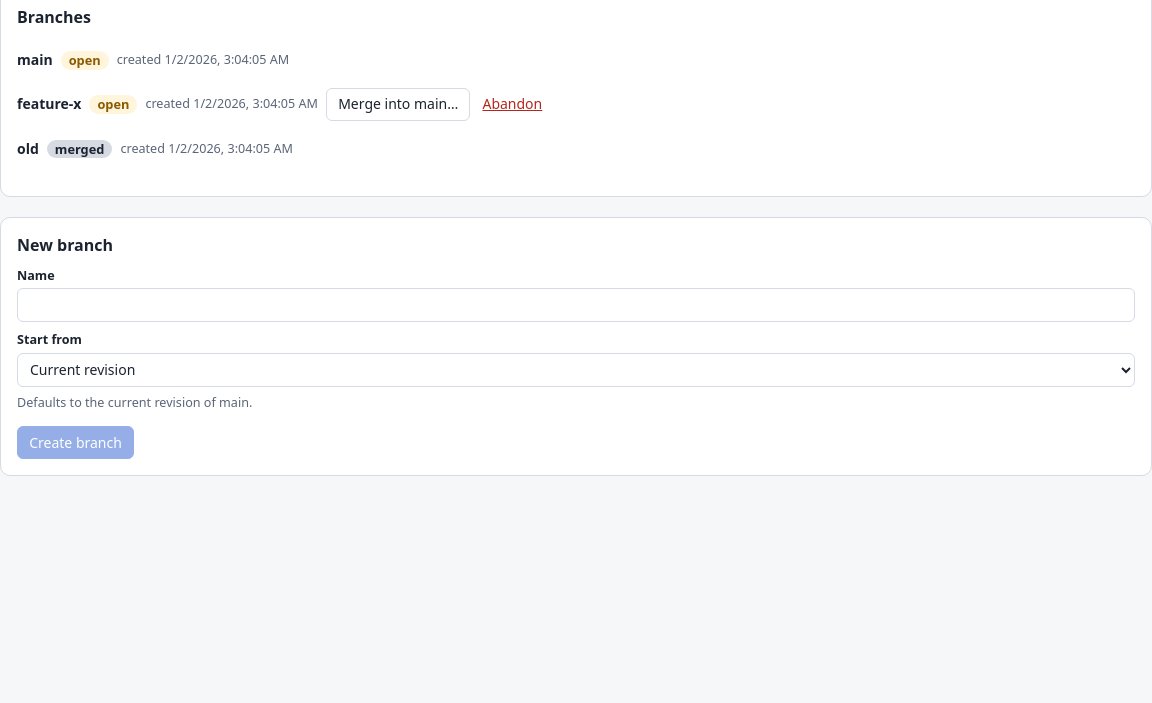
Test case: Branches › asks for a decision on conflicts, then merges with the chosen resolutions
Click the button "Merge into main…".
click(398, 105)  # box [326,88,470,121]
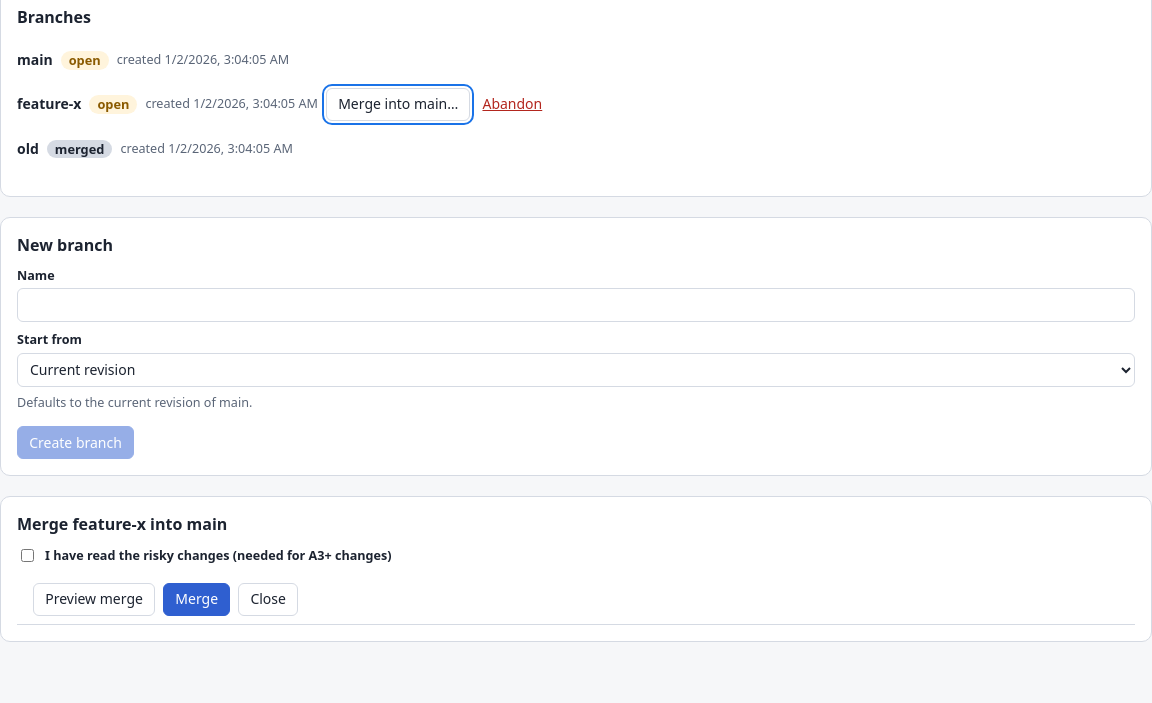
Click the button "Merge".
click(197, 600)  # box [163,583,230,616]
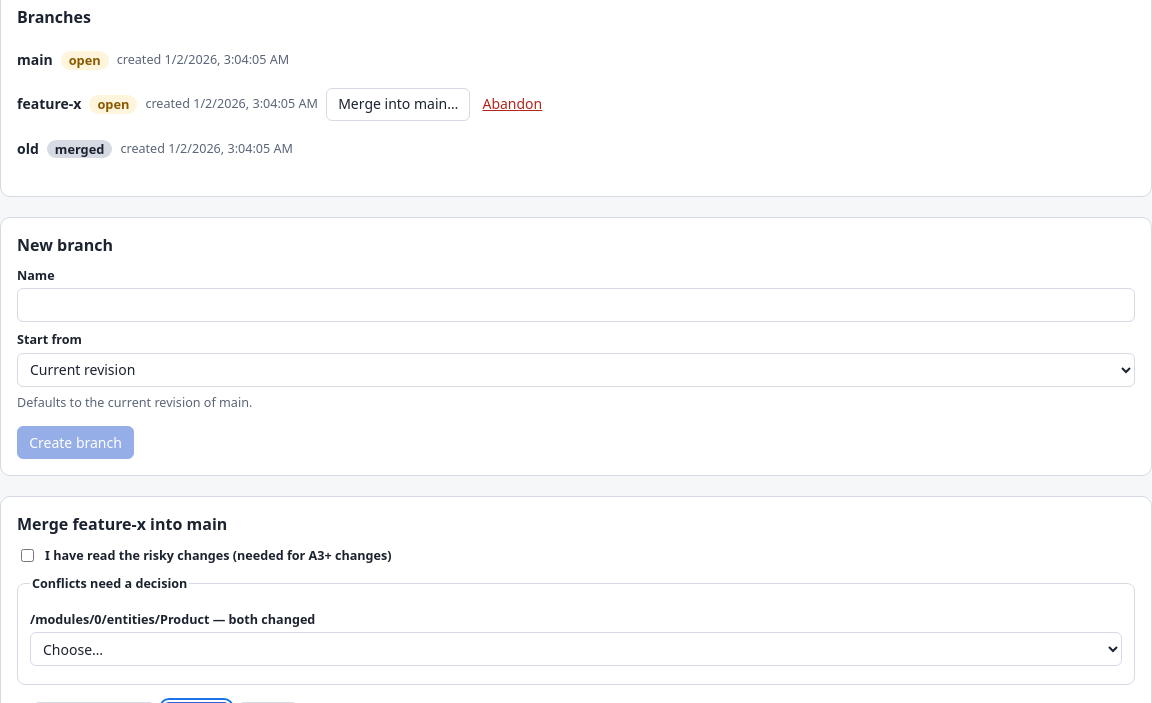
Expected: the text "Conflicts need a decision" is shown, [30,575,189,593]
Select "theirs" in the dropdown named "Resolution for c1" at (576, 649), box [30,632,1122,666]
(page scrolled)
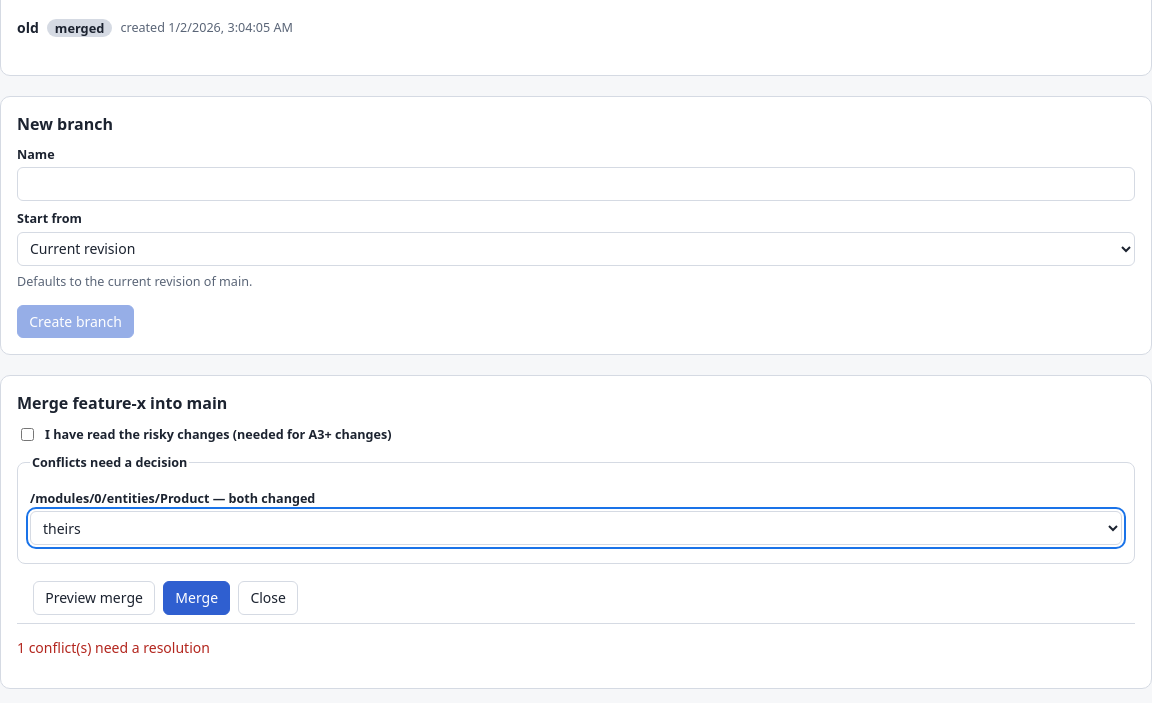
Click the button "Merge".
click(197, 598)  # box [163,581,230,615]
(page scrolled)
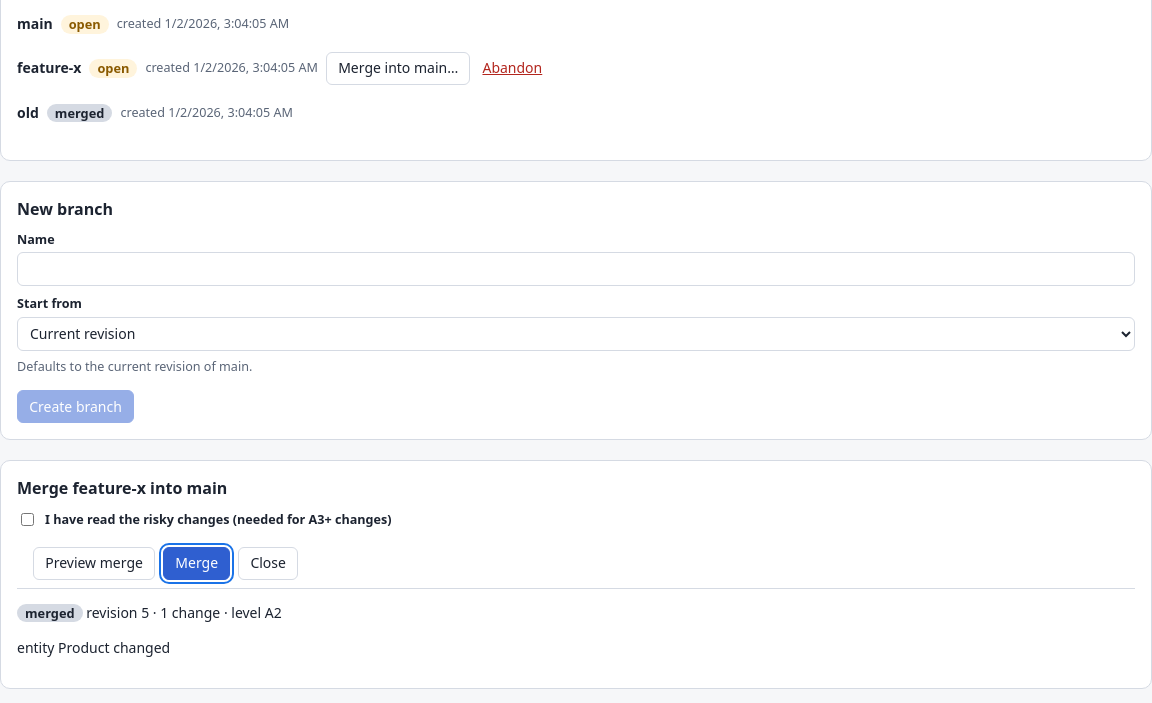
Expected: the text "merged revision 5 · 1 change · level A2" is shown, [17,603,282,622]
